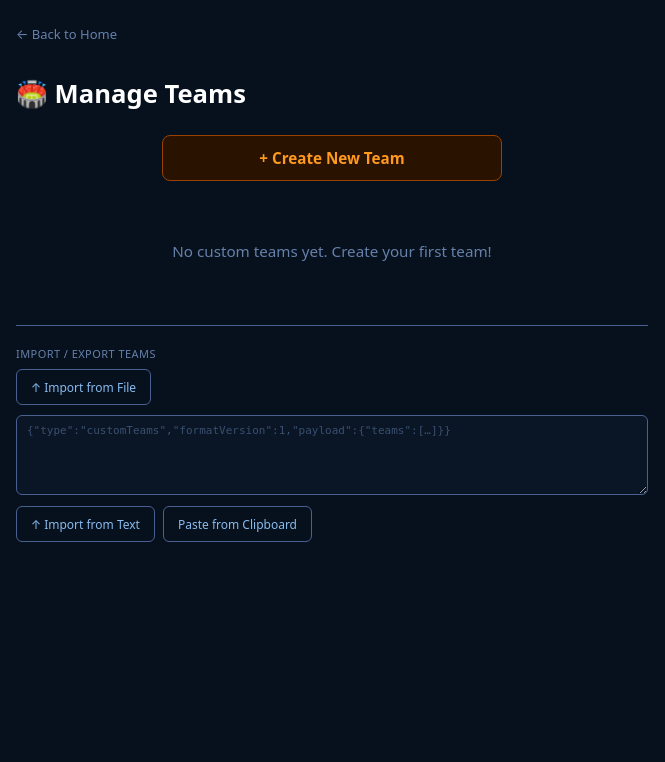
Scenario: ManageTeamsScreen › shows back-to-list button inside editor shell
The image size is (665, 762).
Step 1. Click the button with test id "manage-teams-create-button" → (332, 158), box [162,135,502,181]
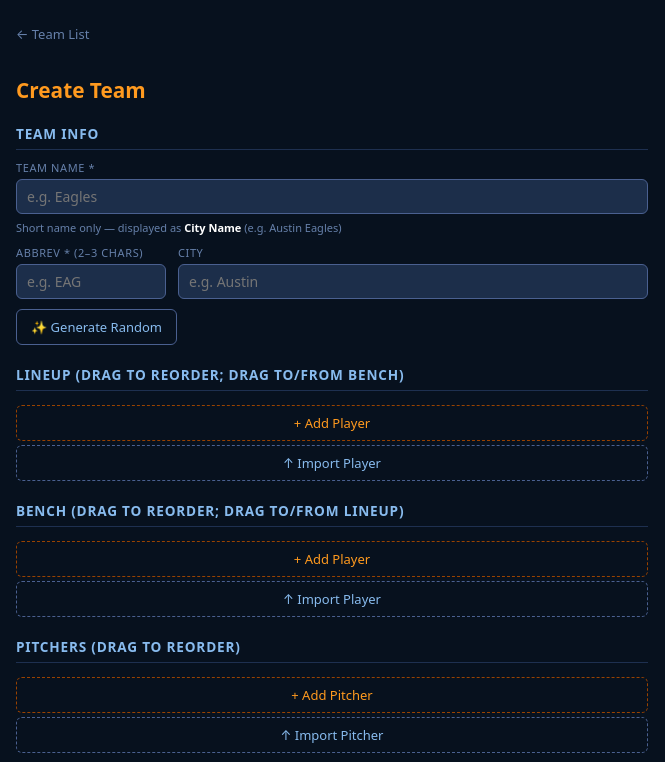
Result: the button with test id "manage-teams-editor-back-button" is shown at [16,16,89,52]
